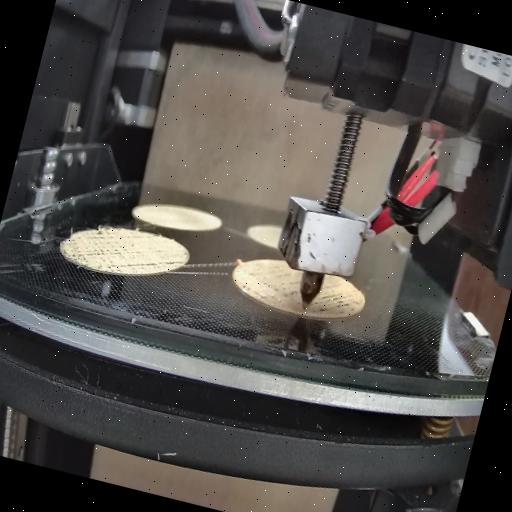under_extrusion: (62, 218, 164, 284), (238, 260, 304, 306), (310, 278, 364, 324), (161, 248, 187, 277)
